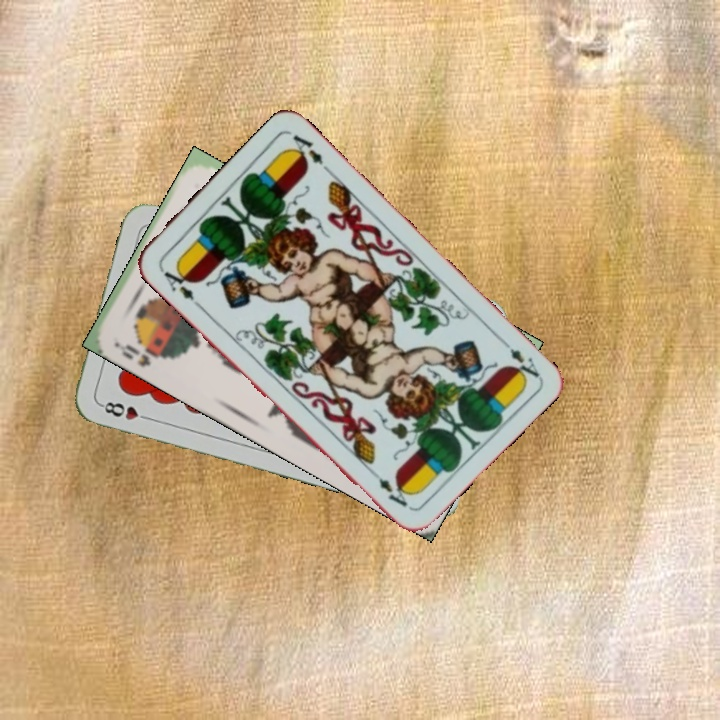EA: (495, 333, 542, 384), (156, 262, 197, 304)
H8: (96, 397, 154, 423)
SO: (111, 339, 171, 370)
